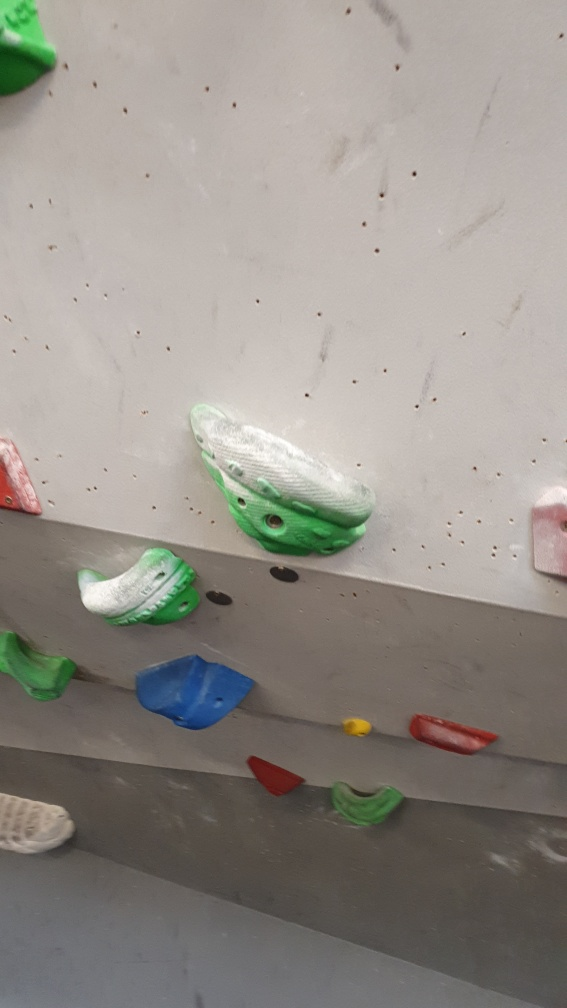Crimp: (406, 711, 508, 761)
Hand Start: (206, 581, 244, 616), (268, 556, 301, 594)
Jug: (186, 397, 378, 564), (70, 541, 208, 631), (1, 626, 80, 705), (327, 776, 408, 835)
Pinch: (131, 652, 263, 729)
